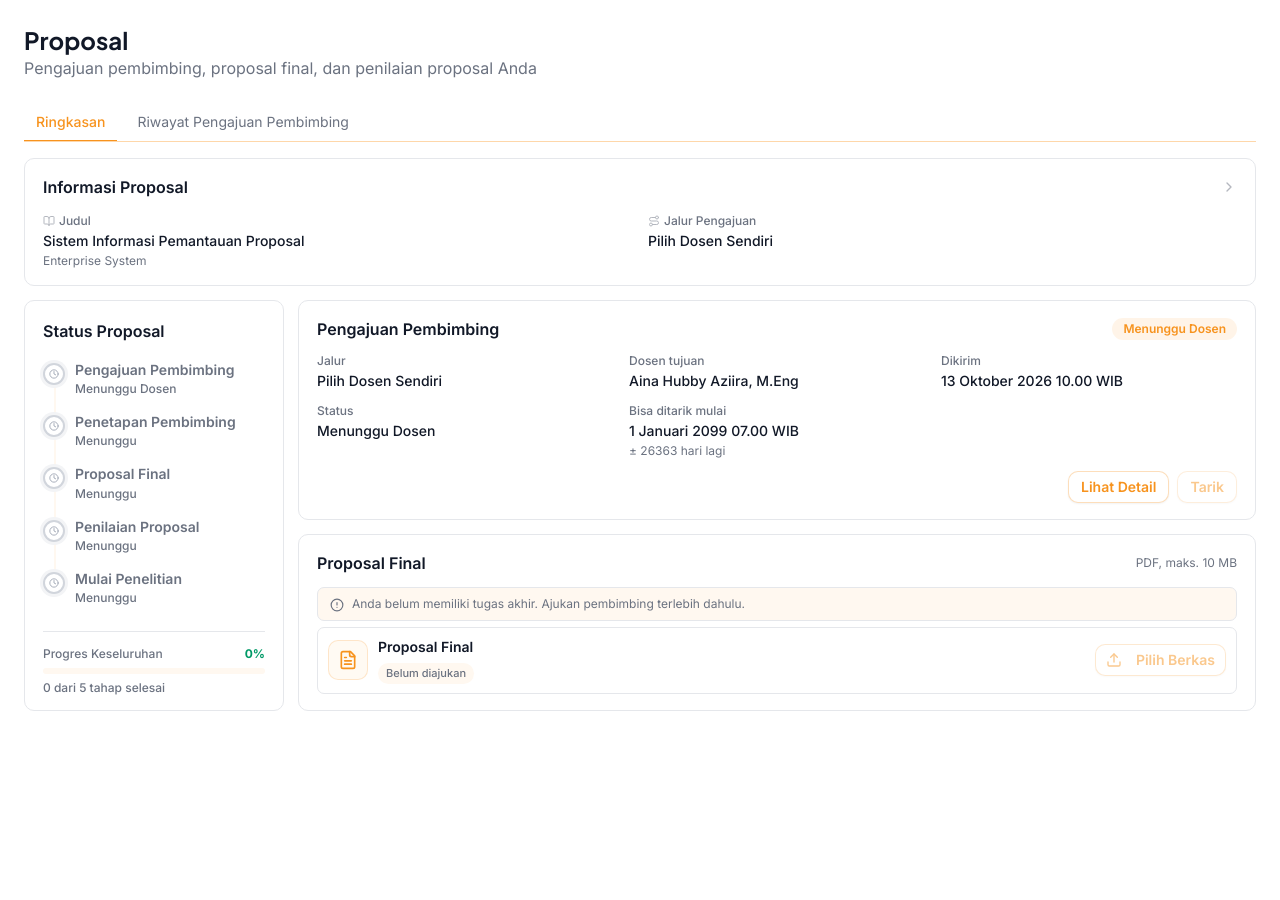
Test case: Proposal mahasiswa › waiting: the card shows the request; pull back is disabled with the reason in its tooltip
The width and height of the screenshot is (1280, 900).
Check: the element named "Isi pengajuan pembimbing" shows "Bisa ditarik mulai", box [629,403,726,418]
Check: the button "Tarik" is disabled, box [1178,471,1237,503]
Click the text "Informasi Proposal".
click(115, 187)  # box [43,175,188,199]
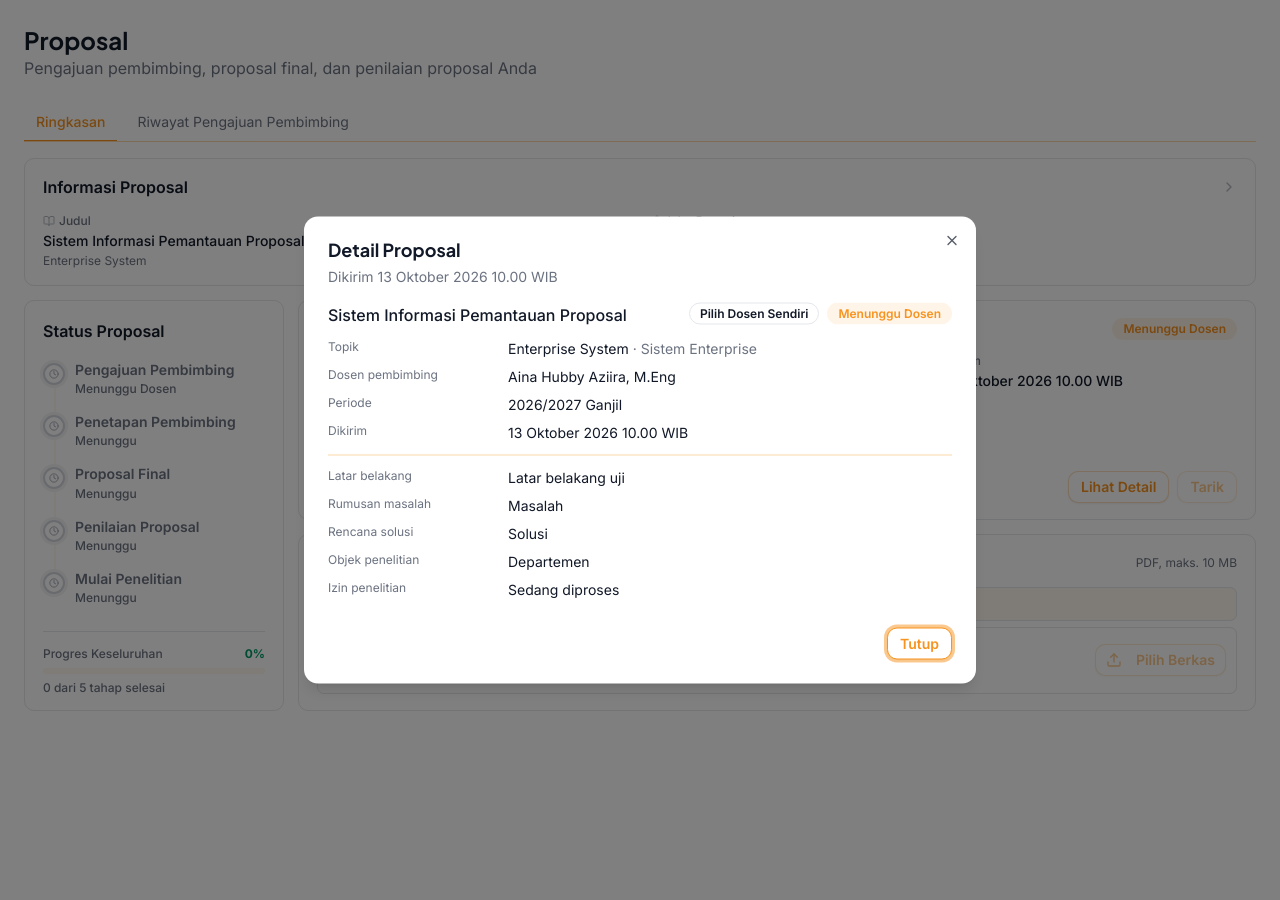
Check: the text "Latar belakang uji" is shown, box [508,468,625,486]
